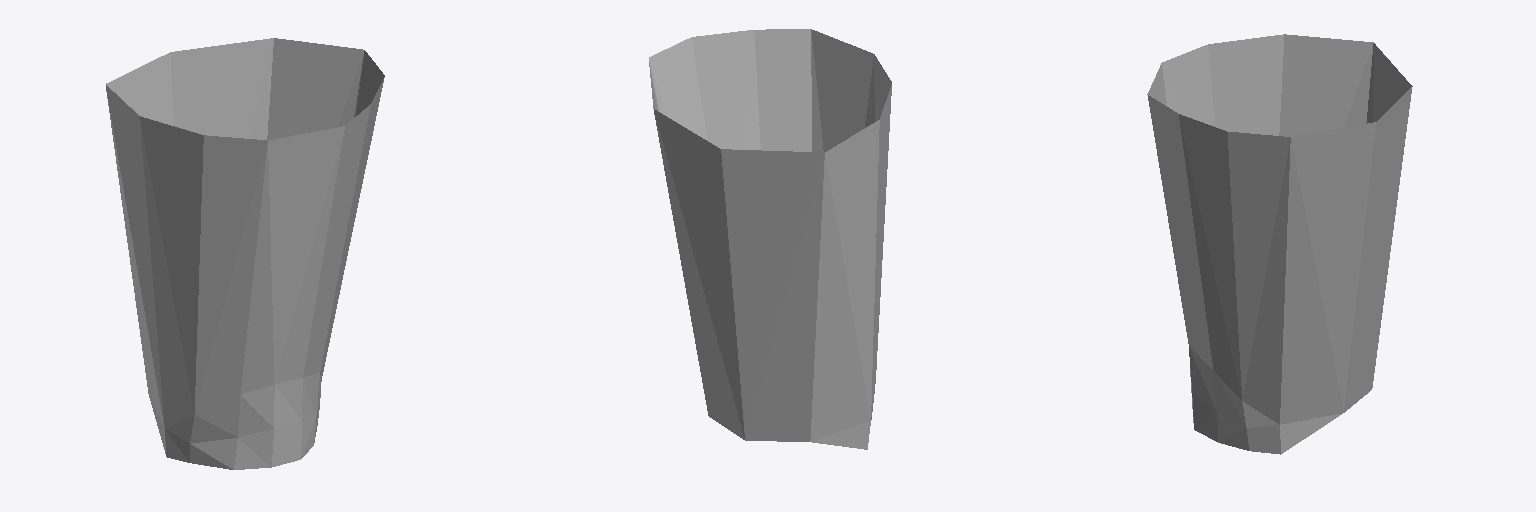
The model's file is KOSHIRO_Pierna_1.obj.
3 renders of one model, left to right at view 1: azimuth 30°, elevation 25°; view 2: azimuth 150°, elevation 25°; view 3: azimuth 270°, elevation 25°, orthographic.
Visible parts, largest first — view 1: Pierna_1_face_Plane.004; view 2: Pierna_1_face_Plane.004; view 3: Pierna_1_face_Plane.004.
Part boxes in pixels (bbox=[...]): Pierna_1_face_Plane.004: bbox=[106, 38, 384, 469]; Pierna_1_face_Plane.004: bbox=[649, 29, 891, 449]; Pierna_1_face_Plane.004: bbox=[1147, 34, 1412, 454].
Bounding box in the file's own units: 0.1208 × 0.1767 × 0.1215.